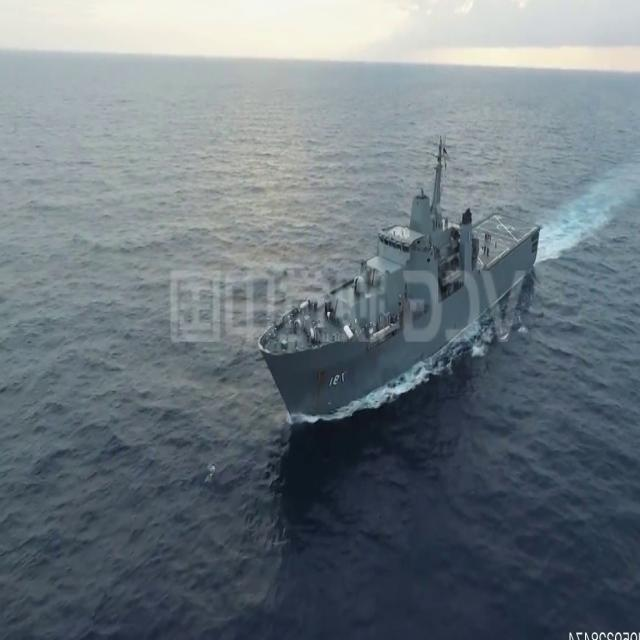navalvessels: (263, 130, 546, 429)
